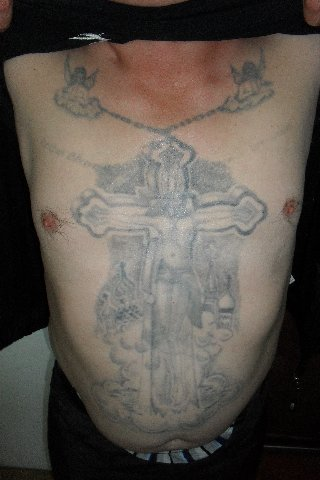tatu1_angel: (45, 54, 109, 123), (223, 60, 285, 111)
tatu9_krest: (77, 135, 264, 405)
